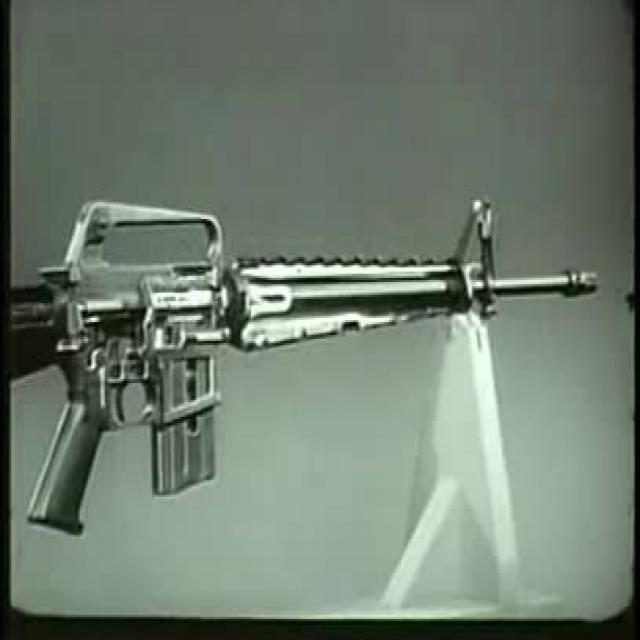m16: (15, 173, 638, 564)
